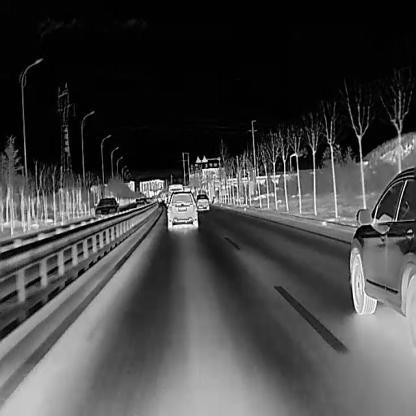car: (347, 163, 415, 344), (165, 190, 198, 230), (94, 196, 120, 227), (168, 183, 183, 204), (196, 193, 209, 210), (135, 199, 148, 211)
